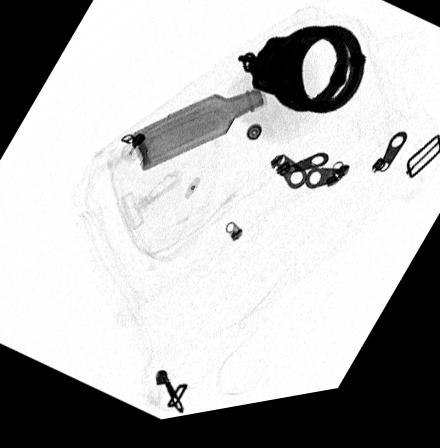HandCuffs: (235, 35, 367, 128)
